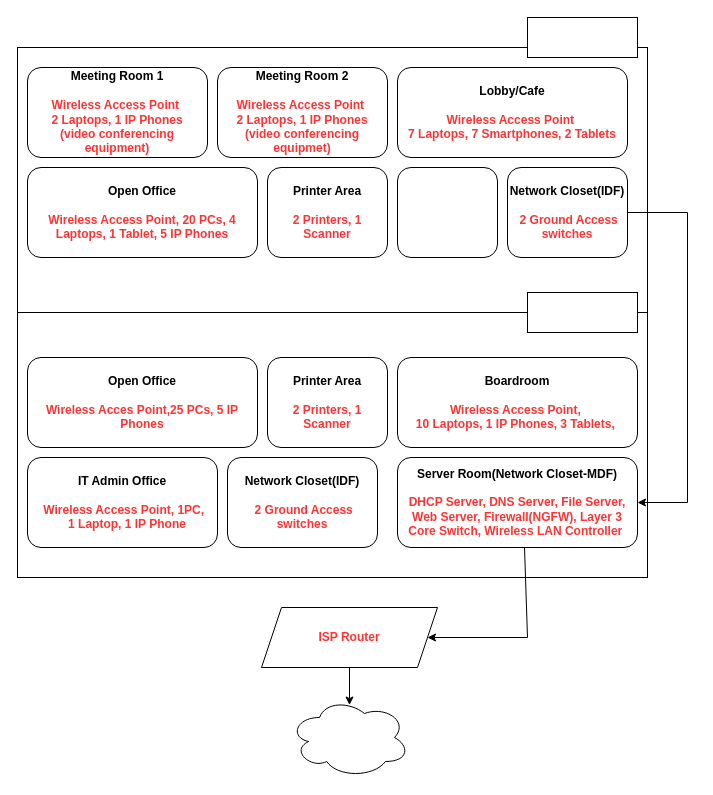
Image size: 713x795. Some labels were removed from this diagram. The centre of each missing label's shape, as x and y in pixels:
"First Floor" belongs at point 582,312.
"Ground Floor" belongs at point 582,37.
"Internet" belongs at point 349,737.
"Reception 1 PC, 1 IP Phone" belongs at point 447,212.
